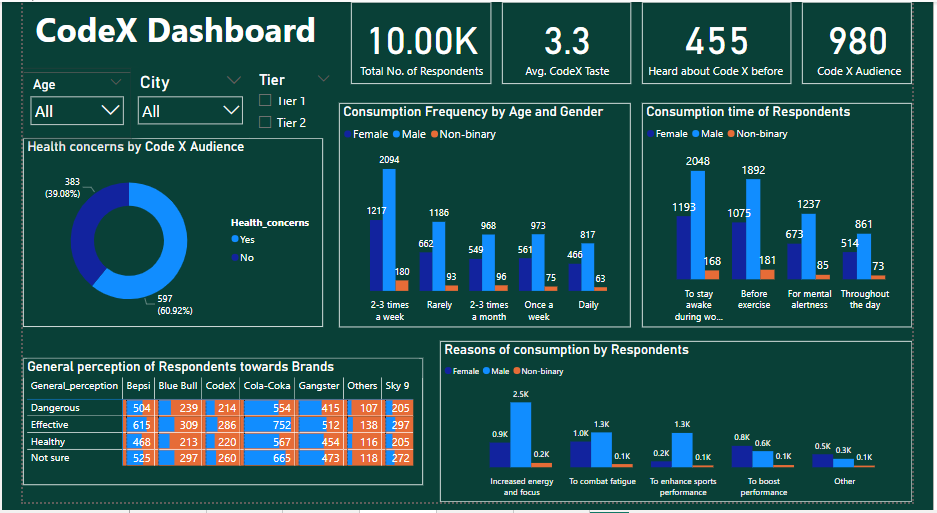

Layout of this report page (visuals, bound fields, positions):
{"tool":"powerbi","page":{"name":"Page 4","canvas":[1280,720],"ordinal":3},"visuals":[{"type":"donutChart","title":" Health concerns by Code X Audience","fields":{"Category":["fact_survey_responses.Health_concerns"],"Y":["fact_survey_responses.CodeX"]},"box":[0,195.8,432,272.2],"z":0},{"type":"textbox","box":[0,0,455,76.3],"z":1000},{"type":"slicer","fields":{"Values":["dim_repondents.Age"]},"box":[0,95,155.5,100.8],"z":2000},{"type":"slicer","fields":{"Values":["dim_cities.City"]},"box":[155.5,95,171.4,100.8],"z":3000},{"type":"slicer","fields":{"Values":["dim_cities.Tier"]},"box":[326.9,95,128.2,100.8],"z":4000},{"type":"clusteredColumnChart","title":"Consumption Frequency by Age and Gender","fields":{"Category":["fact_survey_responses.Consume_frequency"],"Y":["CountNonNull(fact_survey_responses.Respondent_ID)"],"Series":["dim_repondents.Gender"]},"box":[455,145.4,420.5,322.6],"z":5000},{"type":"card","fields":{"Values":["CountNonNull(fact_survey_responses.Respondent_ID)"]},"box":[472.3,0,201.6,118.1],"z":6000},{"type":"card","fields":{"Values":["fact_survey_responses.CodeX Average"]},"box":[689.8,0,185.8,118.1],"z":7000},{"type":"card","fields":{"Values":["fact_survey_responses.CodeX Audience"]},"box":[891.4,0,214.6,118.1],"z":8000},{"type":"card","fields":{"Values":["fact_survey_responses.CodeX"]},"box":[1121.6,0,158.4,118.1],"z":9000},{"type":"clusteredColumnChart","title":"Reasons of consumption by Respondents","fields":{"Category":["fact_survey_responses.Consume_reason"],"Y":["CountNonNull(dim_repondents.Respondent_ID)"],"Series":["dim_repondents.Gender"]},"box":[600.5,488.2,679.7,231.8],"z":10000},{"type":"clusteredColumnChart","title":"Consumption time of Respondents","fields":{"Category":["fact_survey_responses.Consume_time"],"Y":["CountNonNull(dim_repondents.Respondent_ID)"],"Series":["dim_repondents.Gender"]},"box":[891.4,145.4,388.8,322.6],"z":11000},{"type":"pivotTable","title":"General perception of Respondents towards Brands","fields":{"Values":["CountNonNull(dim_repondents.Respondent_ID)"],"Rows":["fact_survey_responses.General_perception"],"Columns":["fact_survey_responses.Current_brands"]},"box":[0,512.6,576,182.9],"z":12000}]}

Visuals, with their boxes in screenshot pixels (x1, y1, x2, y2), scaled from the page's 1280x720 canvas onto the 937x513 screenshot:
" Health concerns by Code X Audience" donutChart: <box>0,140,316,333</box>
textbox: <box>0,0,333,54</box>
slicer - dim_repondents.Age: <box>0,68,114,140</box>
slicer - dim_cities.City: <box>114,68,239,140</box>
slicer - dim_cities.Tier: <box>239,68,333,140</box>
"Consumption Frequency by Age and Gender" clusteredColumnChart: <box>333,104,641,333</box>
card - CountNonNull(fact_survey_responses.Respondent_ID): <box>346,0,493,84</box>
card - fact_survey_responses.CodeX Average: <box>505,0,641,84</box>
card - fact_survey_responses.CodeX Audience: <box>653,0,810,84</box>
card - fact_survey_responses.CodeX: <box>821,0,936,84</box>
"Reasons of consumption by Respondents" clusteredColumnChart: <box>440,348,936,512</box>
"Consumption time of Respondents" clusteredColumnChart: <box>653,104,936,333</box>
"General perception of Respondents towards Brands" pivotTable: <box>0,365,422,496</box>
